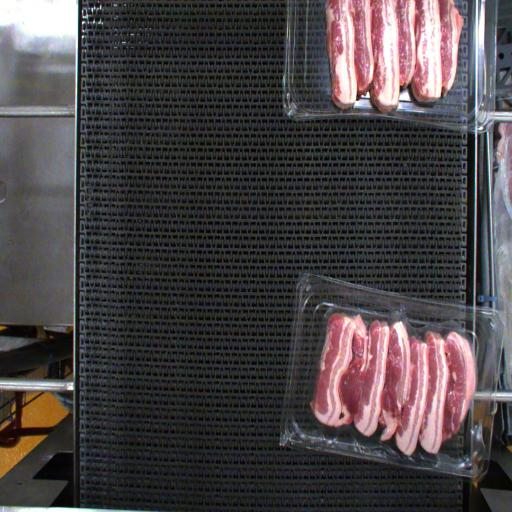unsealed: (321, 299, 481, 370)
